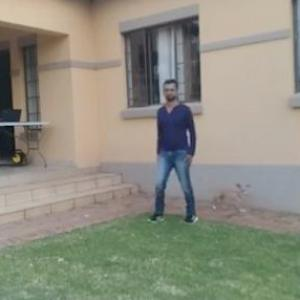follow: (155, 77, 205, 226)
